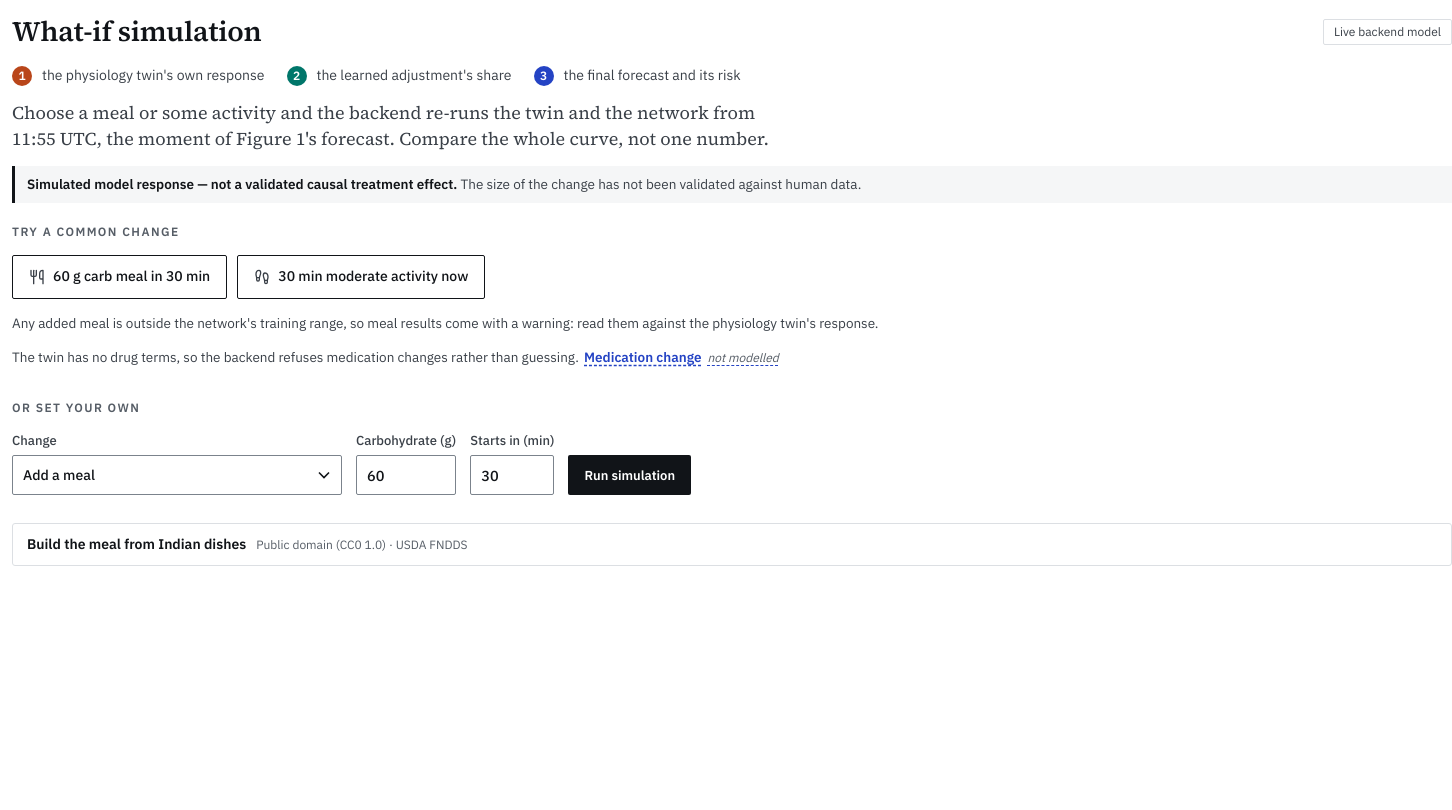
Test: What-If compares each model with itself, and says plainly when nothing changes › replaces charts with one explanation when the backend returns no change
Select "Skip a usual meal (if one falls in the next 2 h)" in the dropdown labelled "Change" at (177, 475), box x1=12 y1=455 x2=342 y2=495
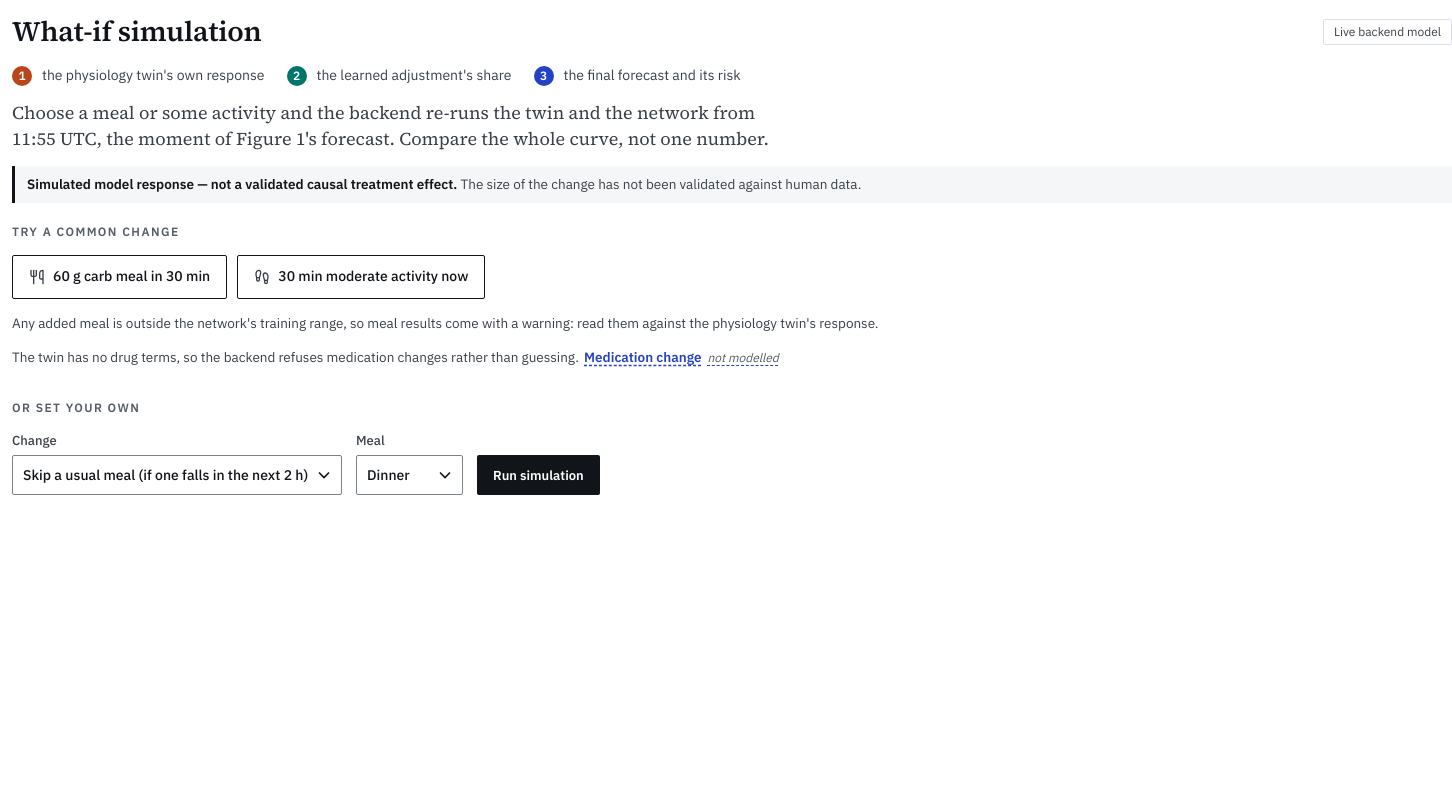
Click the button "Run simulation" at (538, 475), box x1=477 y1=455 x2=600 y2=495
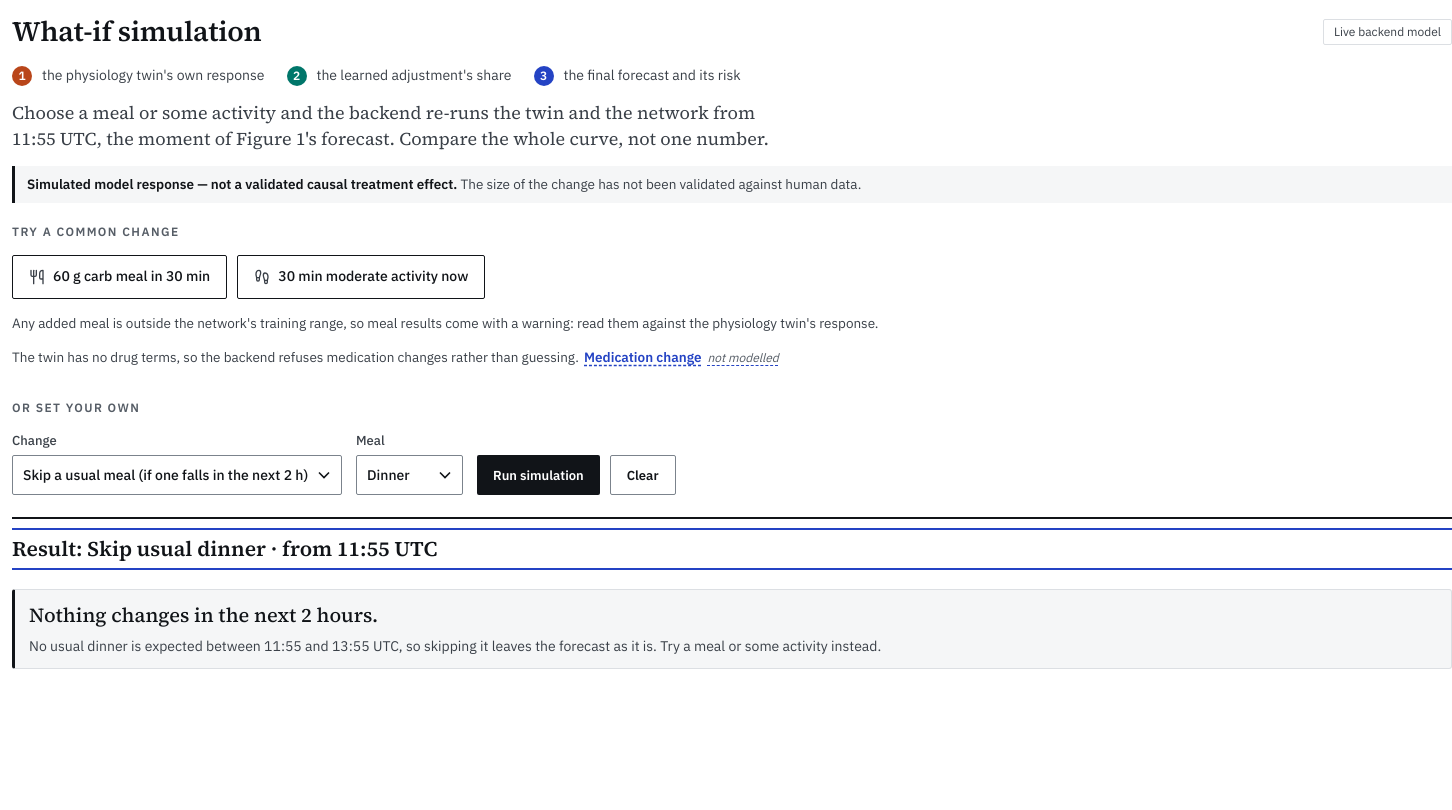
Check: the element with test id "scenario-no-change" shows "Nothing changes in the next 2 hours.", box x1=29 y1=601 x2=378 y2=629
Check: the element with test id "scenario-no-change" shows "No usual dinner is expected between 11:55 and 13:55 UTC", box x1=29 y1=637 x2=657 y2=655
